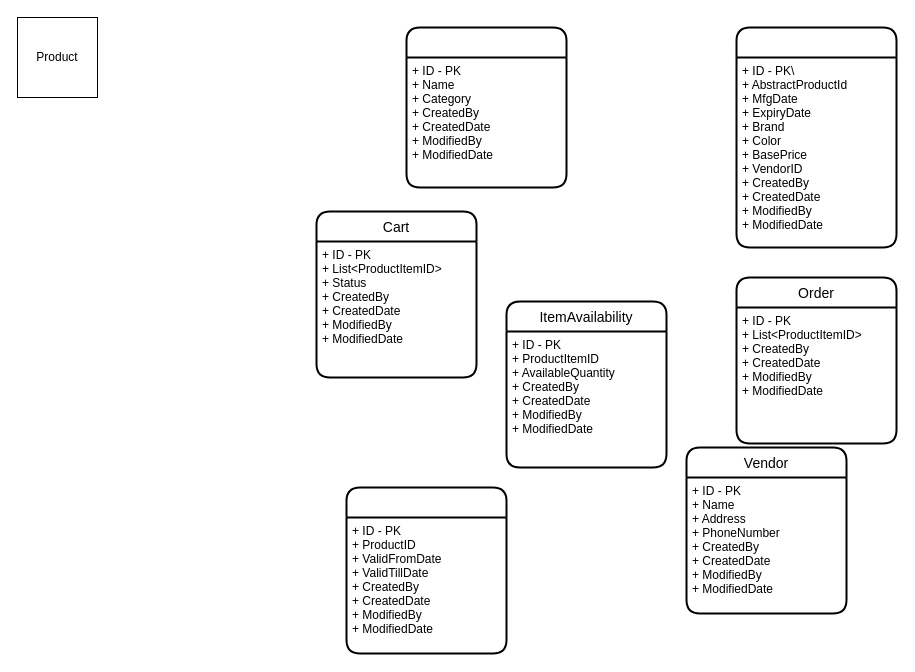
This 915x672 diagram has some shape labels left out. Here are the shapes that lost their labels. From the top down, the box of each, then its label:
(405, 26, 567, 188): AbstractProduct
(735, 26, 897, 248): ProductItem
(345, 486, 507, 654): Discount
